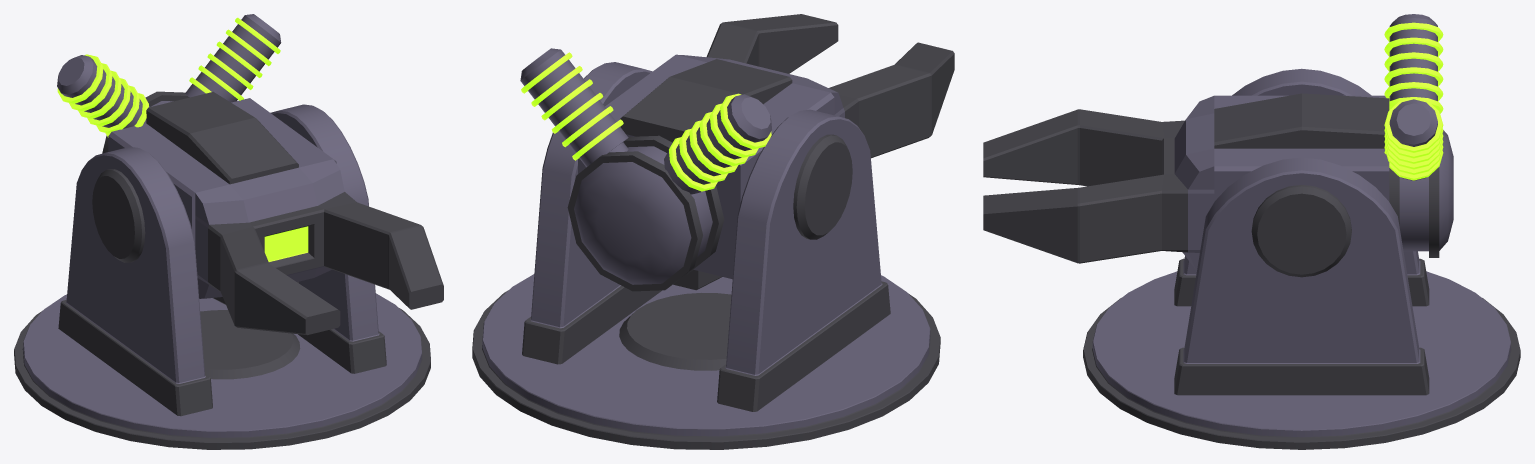
The model's file is Plasma Blaster.fbx.
3 views of the same model, side by side, from view 1: azimuth 30°, elevation 25°; view 2: azimuth 150°, elevation 25°; view 3: azimuth 270°, elevation 25° (orthographic). The views are drawn at different scales.
Parts seen in each view (by area): view 1: Plasma_Ring, Plasma_Cannon; view 2: Plasma_Ring, Plasma_Cannon; view 3: Plasma_Ring, Plasma_Cannon.
Part boxes in pixels (box(x1,y1,x2,y2)): Plasma_Ring: box(14, 104, 430, 449); Plasma_Cannon: box(57, 14, 443, 335); Plasma_Ring: box(472, 62, 940, 449); Plasma_Cannon: box(520, 14, 954, 291); Plasma_Ring: box(1083, 68, 1520, 449); Plasma_Cannon: box(983, 14, 1453, 270).
Size of the model in its own units: 250 by 188 by 307.
